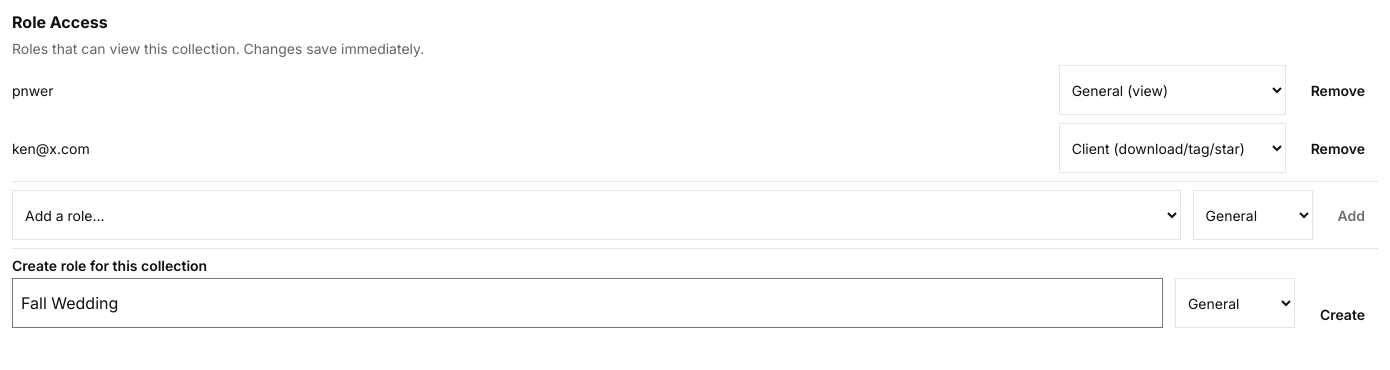
Test: CollectionRolesSection › surfaces a 409 duplicate role name as "already exists"
The image size is (1390, 370).
Check: the field labelled "Create role for this collection" is shown, box [12, 278, 1163, 328]
Click the button "Create": click(1342, 314) [1307, 301, 1378, 328]
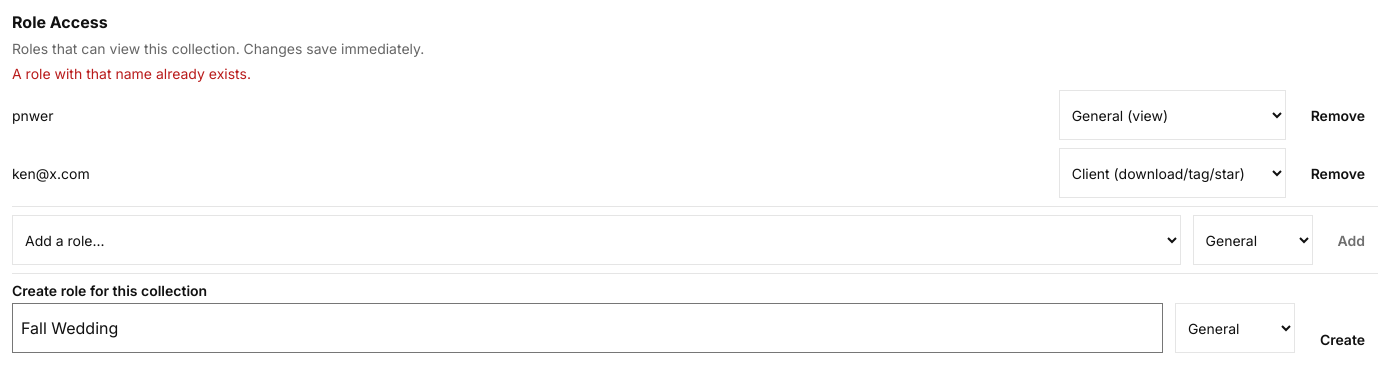
Check: the message reads "A role with that name already exists.", box [12, 65, 251, 82]
